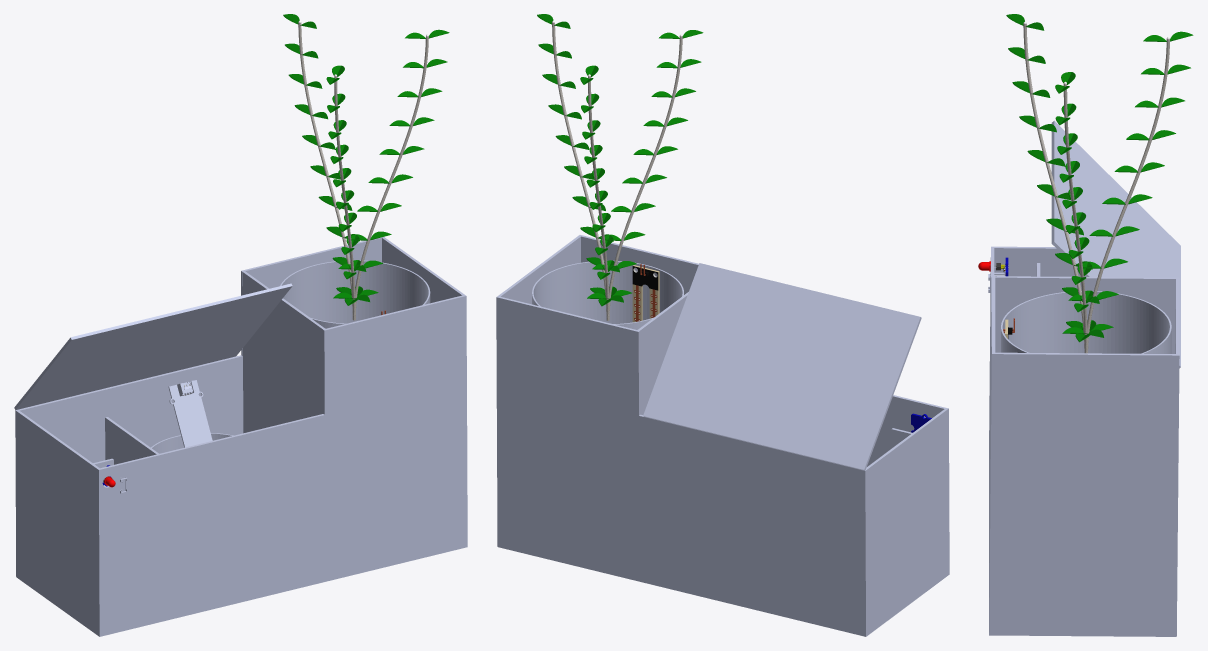
File: Assemblage_initial.obj
The picture shows the model from 3 angles, left to right: view 1: azimuth 30°, elevation 25°; view 2: azimuth 150°, elevation 25°; view 3: azimuth 270°, elevation 25°; orthographic projection. The views are drawn at different scales.
Visible parts, largest first — view 1: obj22, obj13, obj37; view 2: obj22, obj13, obj37; view 3: obj22, obj13, obj37.
Part boxes in pixels (box(x1,y1,x2,y2)): obj22: box(14, 237, 467, 636); obj13: box(283, 14, 449, 305); obj37: box(298, 22, 428, 320); obj22: box(496, 235, 949, 636); obj13: box(537, 14, 703, 306); obj37: box(552, 22, 682, 320); obj22: box(988, 120, 1180, 636); obj13: box(1006, 14, 1193, 342); obj37: box(1023, 24, 1169, 353).
Bounding box in the file's own units: 290 × 358 × 126.
